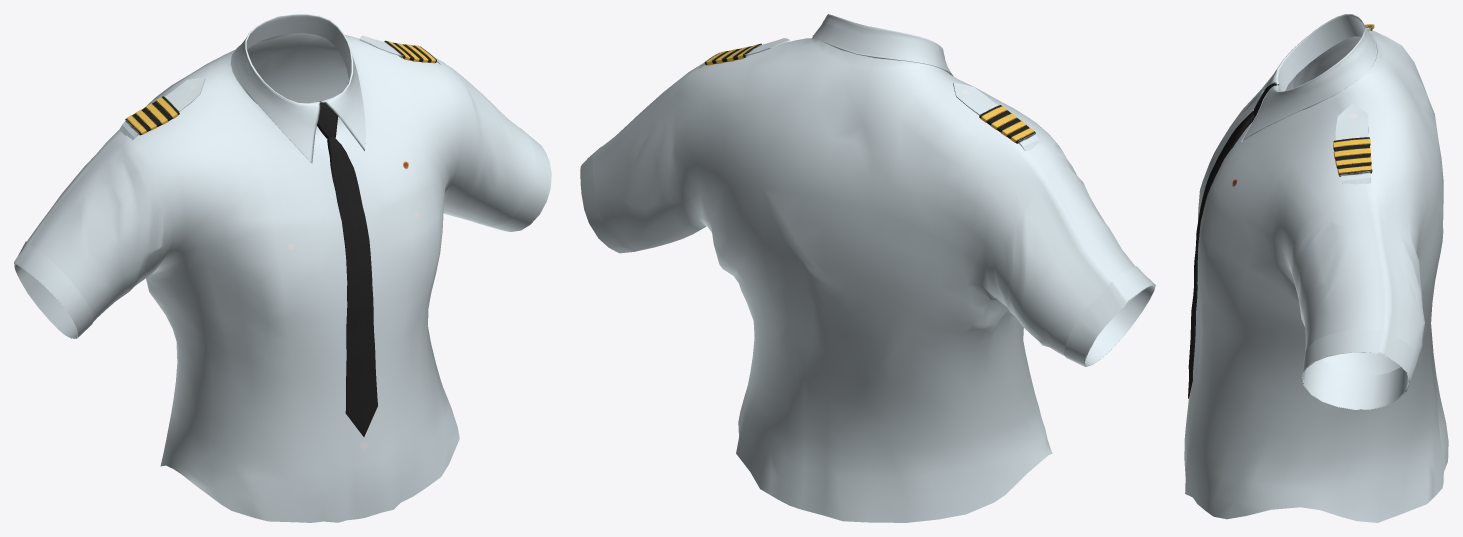
File: M_Shirt_BS.fbx
3 views of the same model, side by side, from view 1: azimuth 30°, elevation 25°; view 2: azimuth 150°, elevation 25°; view 3: azimuth 270°, elevation 25° (orthographic). The views are drawn at different scales.
Visible parts, largest first — view 1: M_Shirt; view 2: M_Shirt; view 3: M_Shirt.
Boxes of the visible parts, x1,y1,x2,y2 form: M_Shirt: [14, 14, 551, 522]; M_Shirt: [580, 14, 1155, 522]; M_Shirt: [1184, 14, 1448, 522].
Bounding box in the file's own units: 26.6 × 21.63 × 11.44.
